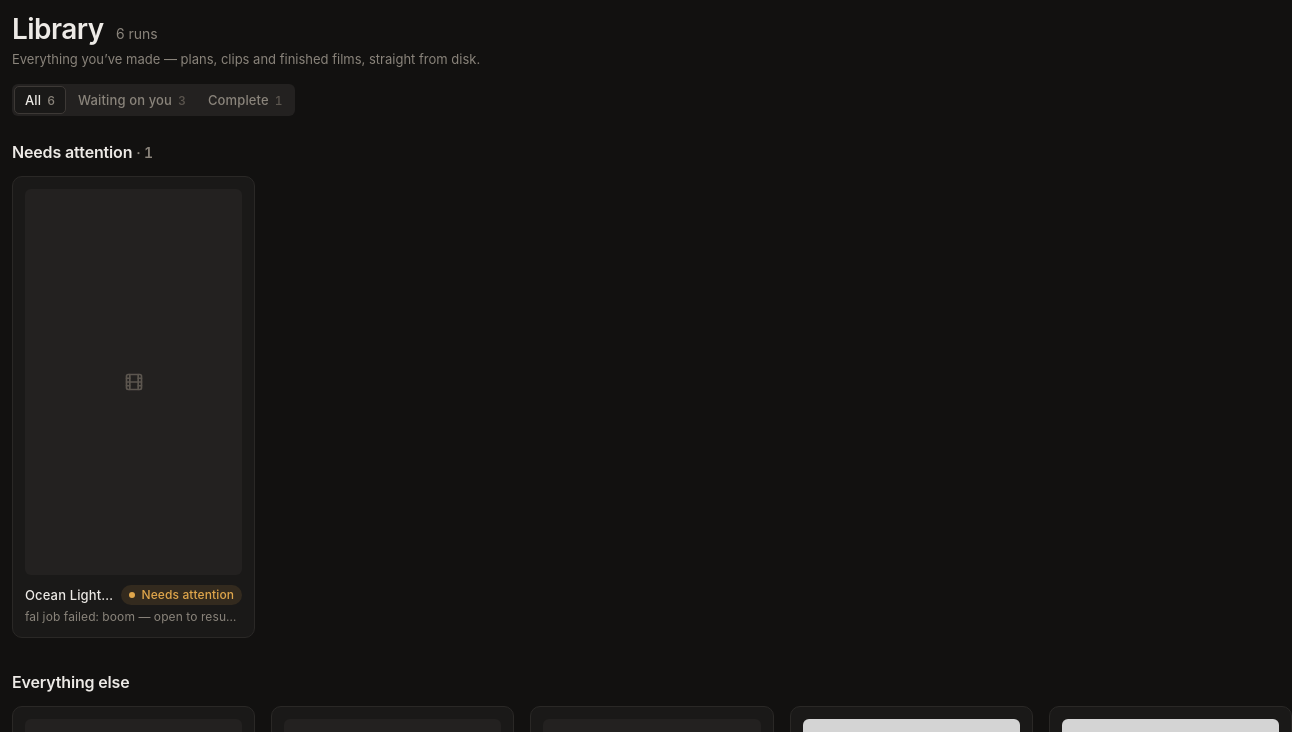
Test: Library — filters › chips carry live counts; Waiting on you = plan-ready + review + attention only
expect the radio button labelled "All6" is shown: met, box left=14, top=86, right=66, bottom=114
Click the radio button labelled "Waiting on you3" at (132, 100), box left=68, top=86, right=196, bottom=114
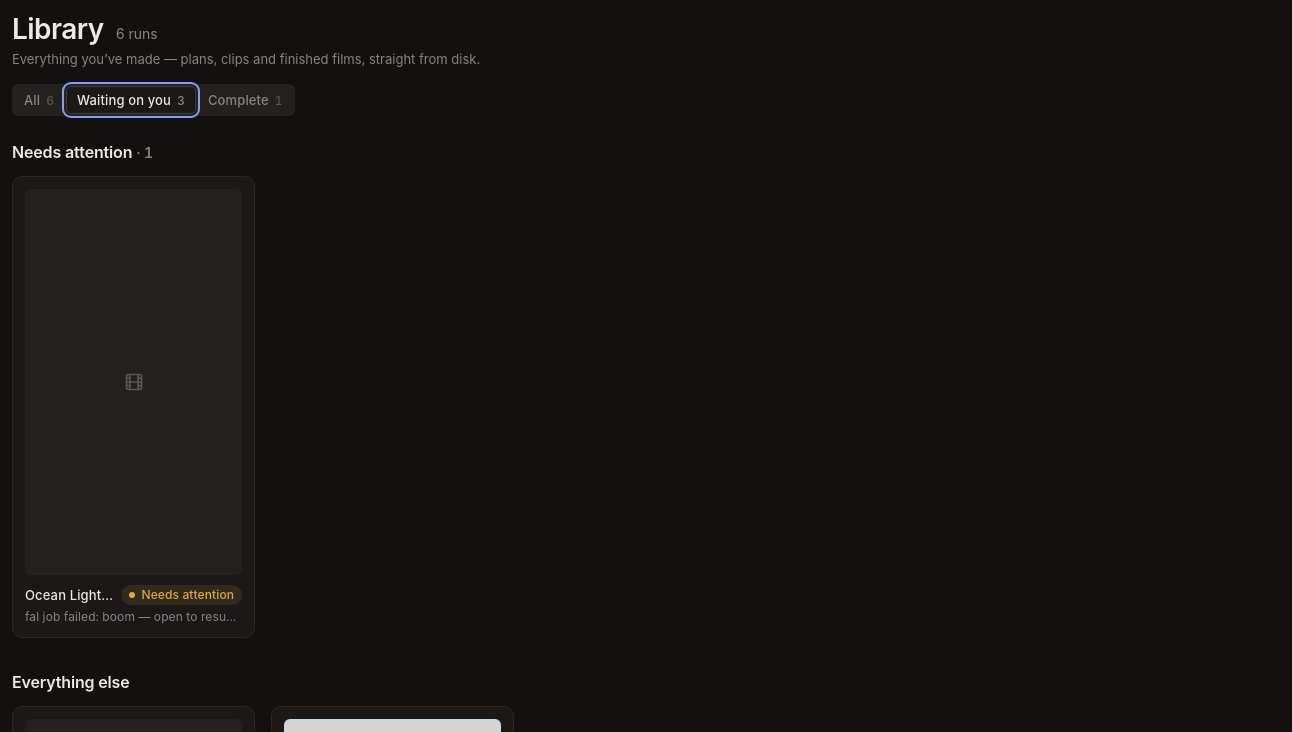
Click the radio button labelled "Complete1" at (245, 100), box left=198, top=86, right=293, bottom=114
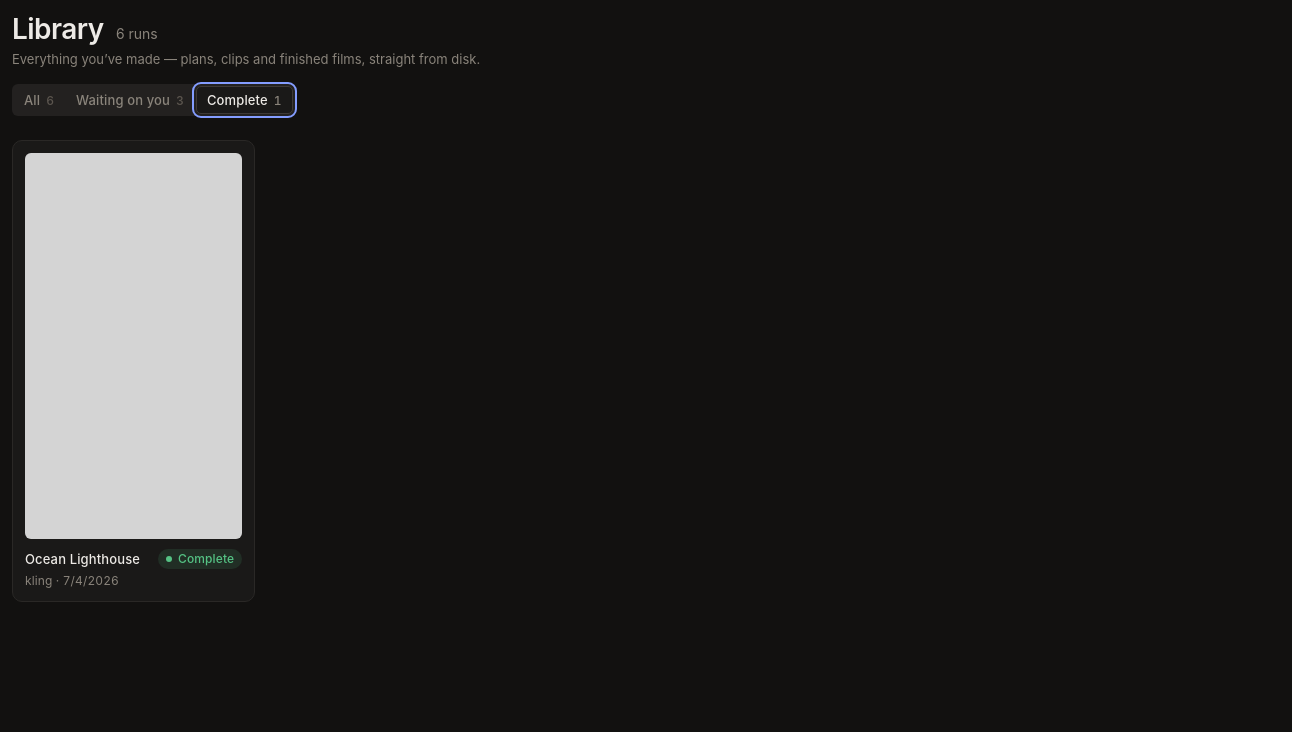
expect the heading "Needs attention" is gone: met
